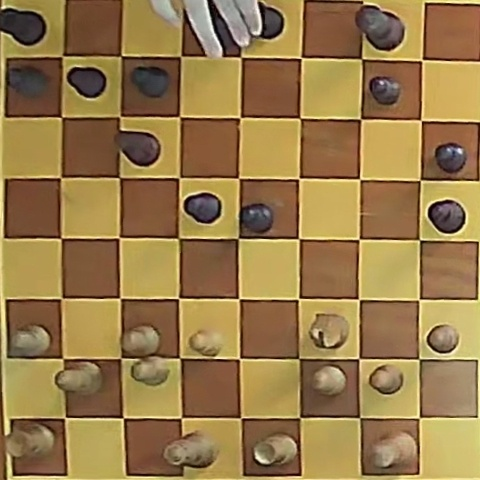black-bishop: (427, 199, 465, 234)
black-king: (355, 5, 404, 51)
black-knight: (115, 131, 159, 166)
black-pawn: (8, 65, 50, 98), (67, 67, 107, 99), (131, 66, 170, 98), (184, 193, 221, 224), (241, 203, 274, 233), (435, 143, 467, 173), (370, 76, 401, 105)
black-rook: (0, 7, 46, 47), (257, 4, 284, 39)
white-bishop: (57, 362, 102, 395)
white-king: (370, 431, 417, 469)
white-knight: (309, 313, 348, 348)
white-pawn: (10, 324, 51, 356), (122, 325, 161, 356), (131, 356, 170, 386), (369, 364, 404, 394), (312, 366, 346, 395), (427, 325, 459, 353), (189, 329, 222, 356)
white-queen: (163, 430, 219, 468)
white-rook: (6, 422, 56, 459), (253, 433, 297, 466)
